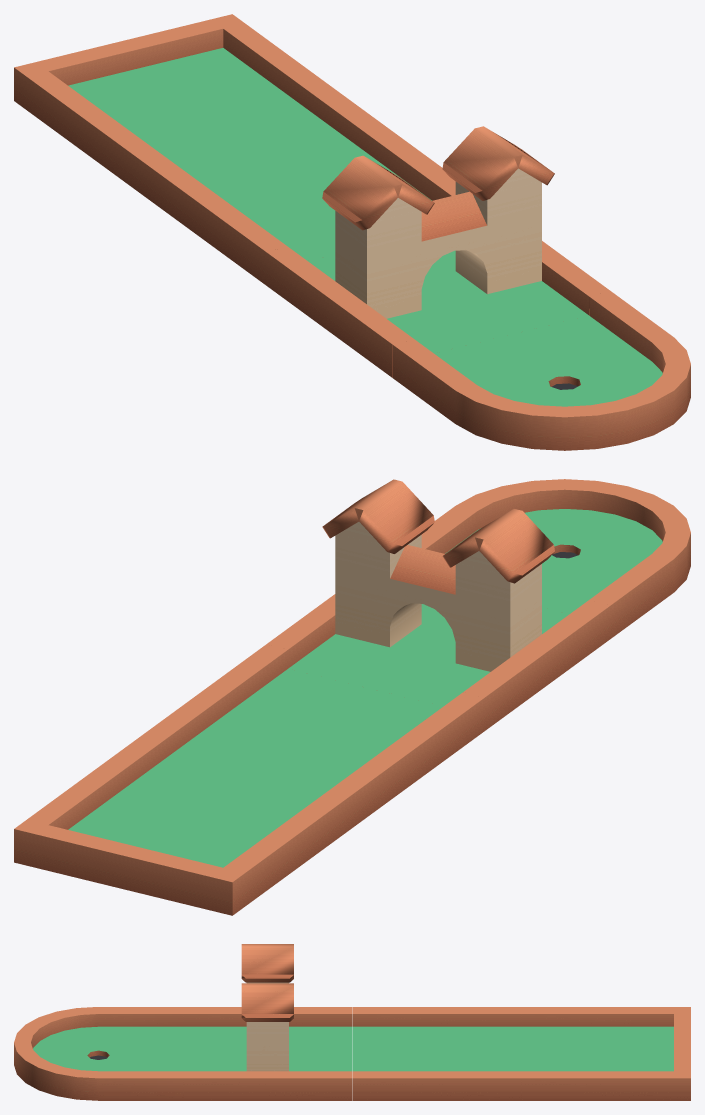
Rendered from course1-test-no-sep.glb.
3 renders of one model, top to bottom at view 1: azimuth 30°, elevation 25°; view 2: azimuth 150°, elevation 25°; view 3: azimuth 270°, elevation 25°, orthographic. The views are drawn at different scales.
Visible parts, largest first — view 1: end-col; view 2: end-col; view 3: end-col.
Part boxes in pixels (<box>): end-col: <box>14,14,690,450</box>; end-col: <box>14,479,690,915</box>; end-col: <box>14,944,690,1100</box>.
Size of the model in its own units: 0.9999 by 0.651 by 4.
4 materials, 4 textured.
